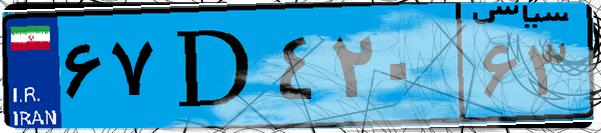0: (385, 28, 445, 110)
2: (330, 28, 385, 110)
3: (525, 38, 570, 115)
4: (270, 28, 330, 110)
6: (57, 26, 110, 100), (475, 38, 525, 113)
7: (110, 28, 158, 98)
D: (158, 12, 270, 120)
